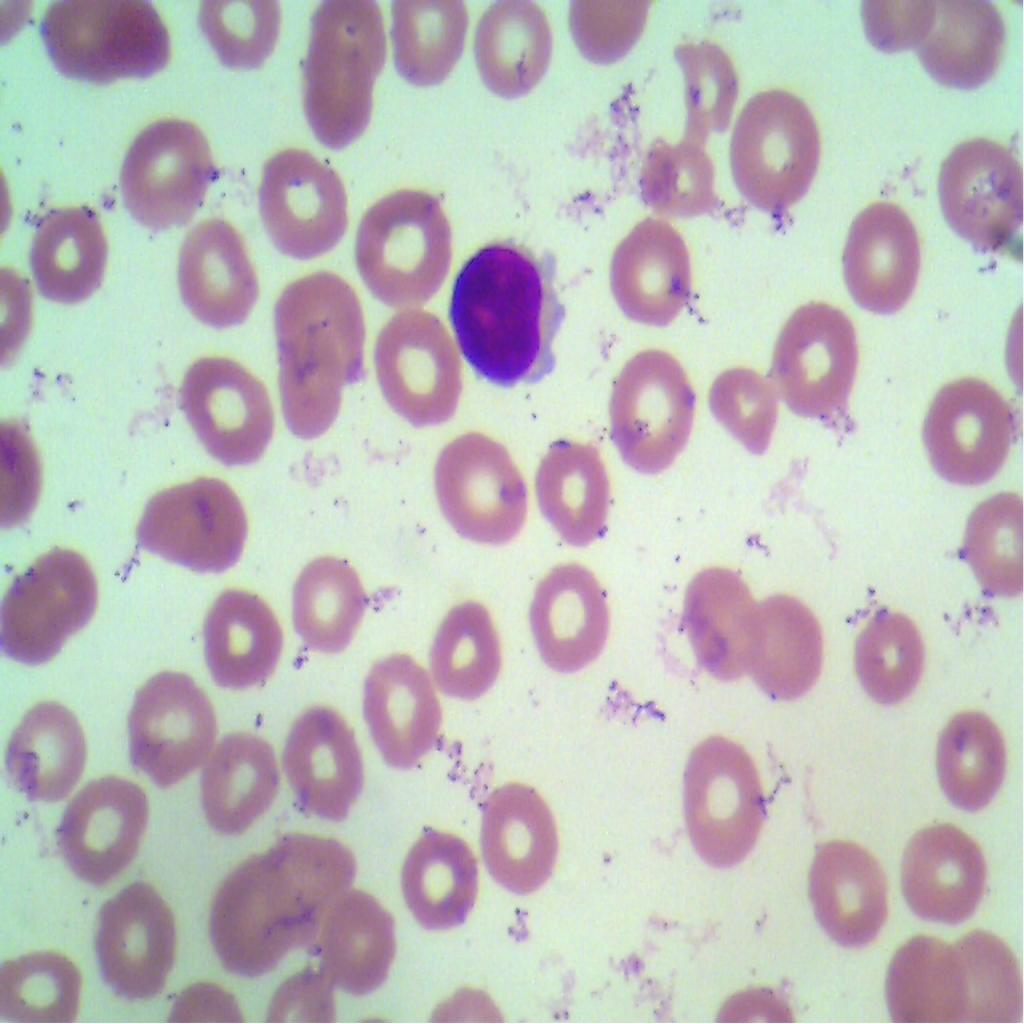Eritrosit: (132, 455, 258, 588), (723, 74, 826, 225), (100, 105, 222, 225), (249, 138, 361, 268), (918, 354, 1023, 492), (676, 724, 770, 874), (471, 768, 571, 905), (419, 425, 533, 544), (176, 344, 281, 472), (346, 189, 456, 310), (898, 809, 994, 945), (282, 550, 384, 672), (595, 346, 693, 472), (20, 198, 118, 321), (186, 581, 286, 701), (931, 125, 1023, 255), (0, 552, 108, 662), (164, 224, 271, 332), (769, 298, 863, 420), (844, 192, 930, 325), (91, 882, 179, 1011), (258, 829, 356, 944), (378, 301, 466, 429), (910, 0, 1013, 108), (121, 674, 221, 785), (358, 648, 446, 774), (51, 772, 149, 884), (0, 698, 99, 808), (604, 218, 704, 325), (318, 874, 400, 1004), (276, 705, 368, 820), (268, 271, 366, 378), (518, 565, 614, 674), (529, 431, 618, 548), (806, 824, 888, 950), (416, 595, 509, 701), (210, 844, 288, 970), (292, 42, 386, 145), (634, 127, 726, 231), (469, 2, 561, 106), (179, 0, 299, 79), (396, 822, 479, 936), (949, 484, 1023, 610), (691, 352, 774, 464), (849, 595, 931, 708), (930, 704, 1014, 814), (872, 925, 966, 1023), (743, 607, 831, 711), (686, 554, 759, 677), (196, 727, 281, 831), (33, 0, 137, 84), (383, 0, 468, 100), (674, 26, 746, 144), (938, 925, 1024, 1023), (269, 338, 338, 441), (2, 932, 80, 1023)
Limfoblast: (446, 233, 582, 398)
